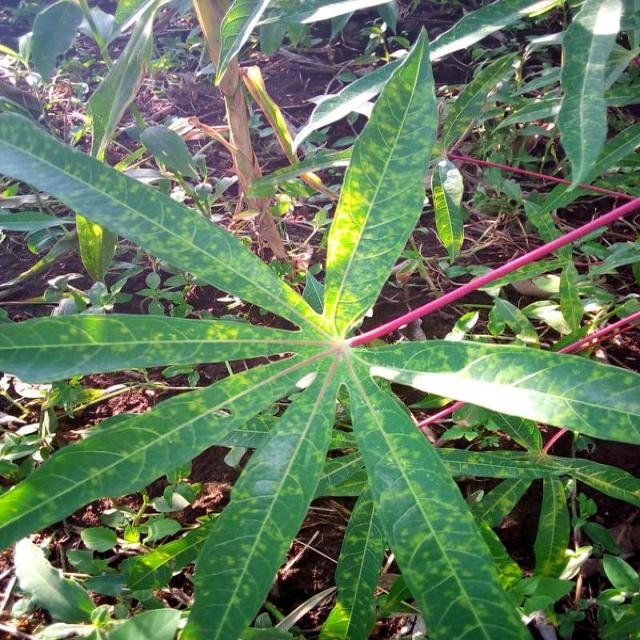cassava leaf: (1, 18, 638, 638), (322, 25, 440, 339)
